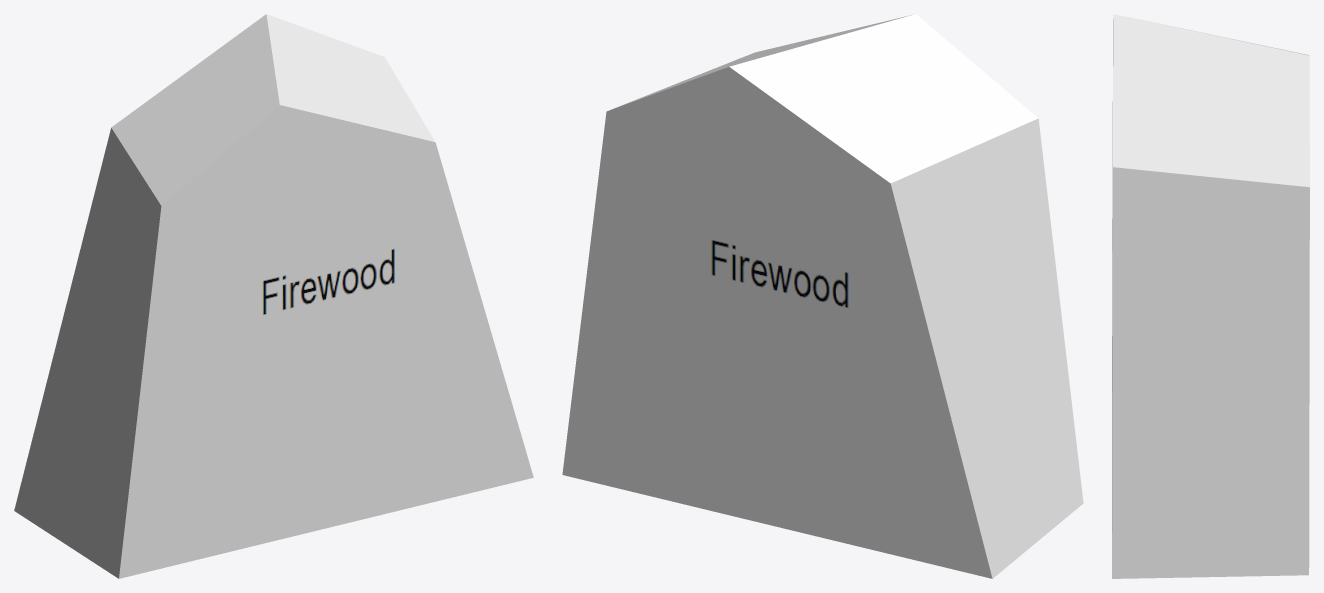
The model's file is firewood.fbx.
3 views of the same model, side by side, from view 1: azimuth 30°, elevation 25°; view 2: azimuth 150°, elevation 25°; view 3: azimuth 270°, elevation 25° (orthographic). The views are drawn at different scales.
Visible parts, largest first — view 1: firewood; view 2: firewood; view 3: firewood.
Boxes of the visible parts, x1,y1,x2,y2 form: firewood: (14, 14, 533, 578); firewood: (562, 14, 1083, 578); firewood: (1112, 14, 1309, 578).
Size of the model in its own units: 204 by 200 by 81.57.
